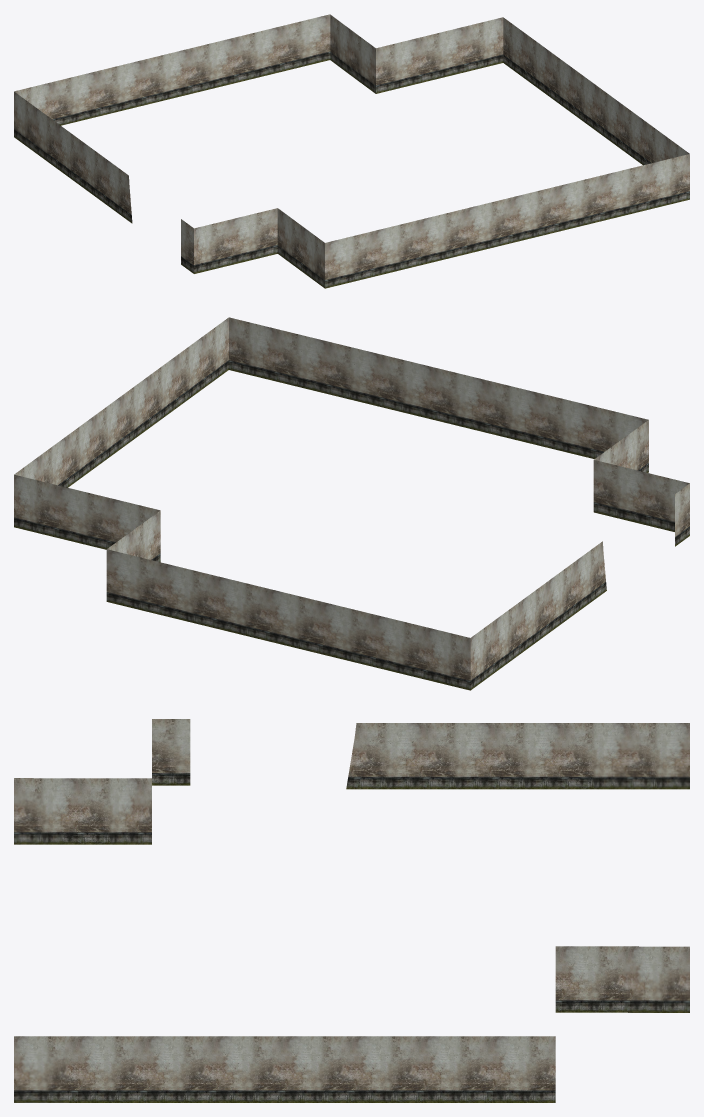
The model's file is ngle23.obj.
3 renders of one model, top to bottom at view 1: azimuth 30°, elevation 25°; view 2: azimuth 150°, elevation 25°; view 3: azimuth 270°, elevation 25°, orthographic. The views are drawn at different scales.
Visible parts, largest first — view 1: ngle23; view 2: ngle23; view 3: ngle23.
Boxes of the visible parts, box(x1,y1,x2,y2) form: ngle23: box(14, 14, 689, 288); ngle23: box(14, 317, 689, 690); ngle23: box(14, 719, 689, 1102).
Size of the model in its own units: 1628 by 159 by 1466.
